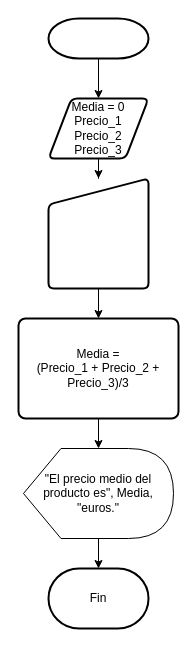
This 196x646 diagram has some shape labels left out. Each missing label, with the box of its shape:
Inicio: (47, 17, 149, 59)
Precio_1 Precio_2 Precio_3: (47, 177, 149, 289)
